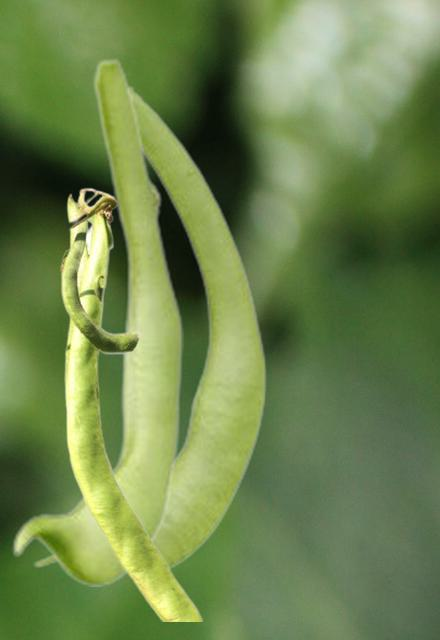french_bean: (32, 83, 267, 571), (11, 56, 182, 585), (59, 187, 202, 620)
